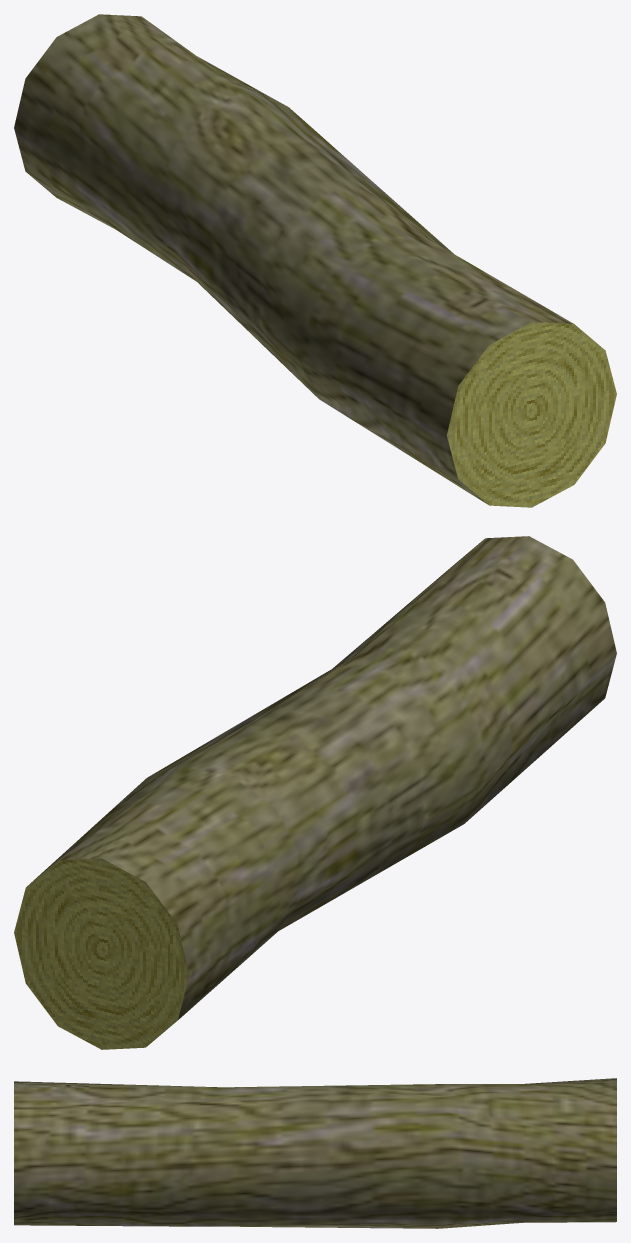
Rendered from trunk.obj.
3 views of the same model, one above another, from view 1: azimuth 30°, elevation 25°; view 2: azimuth 150°, elevation 25°; view 3: azimuth 270°, elevation 25° (orthographic). The views are drawn at different scales.
Parts seen in each view (by area): view 1: Cylinder02, Duplicate01; view 2: Cylinder02, Duplicate02; view 3: Cylinder02.
Part boxes in pixels (x1=…): Cylinder02: x1=14, y1=14, x2=573, y2=504; Duplicate01: x1=447, y1=322, x2=616, y2=507; Cylinder02: x1=30, y1=536, x2=616, y2=1019; Duplicate02: x1=14, y1=858, x2=189, y2=1049; Cylinder02: x1=14, y1=1078, x2=616, y2=1228.
Size of the model in its own units: 7.75 by 7.73 by 30.64.
